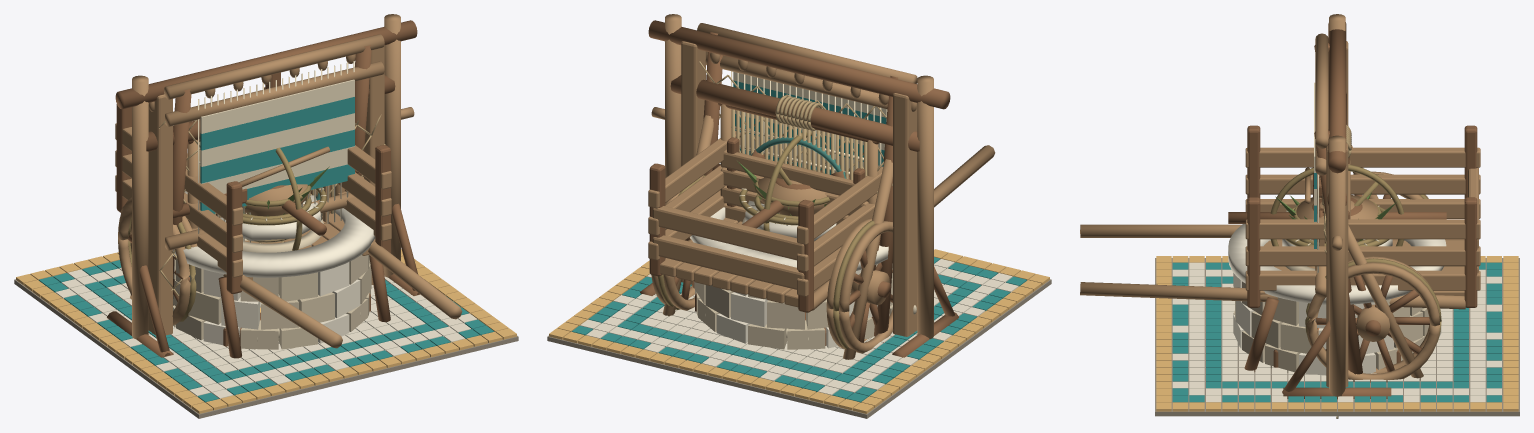
File: alexandria-details.glb
3 views of the same model, side by side, from view 1: azimuth 30°, elevation 25°; view 2: azimuth 150°, elevation 25°; view 3: azimuth 270°, elevation 25° (orthographic).
Visible parts, largest first — view 1: cargo-handcart__woodlight, mosaic-pavement__marble, mosaic-pavement__teal, mosaic-pavement__ochre, weighted-loom__linen, courtyard-well__marble, fishing-net-rack__woodlight, weighted-loom__woodlight, courtyard-well__limestone, courtyard-well__woodlight, weighted-loom__teal, cargo-handcart__wood (+13 smaller); view 2: cargo-handcart__woodlight, mosaic-pavement__marble, mosaic-pavement__teal, mosaic-pavement__ochre, courtyard-well__woodlight, fishing-net-rack__woodlight, fishing-net-rack__wood, weighted-loom__woodlight, courtyard-well__limestone, reed-screen__rope, courtyard-well__wood, craft-tool-rack__woodlight (+16 smaller); view 3: cargo-handcart__woodlight, mosaic-pavement__marble, mosaic-pavement__teal, mosaic-pavement__ochre, cargo-handcart__wood, mosaic-pavement__mortar, courtyard-well__marble, fishing-net-rack__woodlight, fishing-net-rack__wood, weighted-loom__woodlight, courtyard-well__limestone, courtyard-well__woodlight (+5 smaller).
Boxes of the visible parts, x1,y1,x2,y2 form: cargo-handcart__woodlight: (115, 87, 462, 348); mosaic-pavement__marble: (55, 267, 477, 399); mosaic-pavement__teal: (38, 260, 494, 402); mosaic-pavement__ochre: (16, 249, 516, 413); weighted-loom__linen: (198, 61, 354, 242); courtyard-well__marble: (173, 191, 375, 345); fishing-net-rack__woodlight: (132, 14, 400, 338); weighted-loom__woodlight: (130, 34, 384, 299); courtyard-well__limestone: (173, 254, 371, 349); courtyard-well__woodlight: (148, 45, 414, 335); weighted-loom__teal: (200, 97, 354, 213); cargo-handcart__wood: (116, 72, 390, 358); cargo-handcart__woodlight: (648, 131, 995, 353); mosaic-pavement__marble: (580, 259, 1018, 395); mosaic-pavement__teal: (571, 257, 1026, 402); mosaic-pavement__ochre: (549, 249, 1049, 413); courtyard-well__woodlight: (651, 41, 917, 336); fishing-net-rack__woodlight: (665, 14, 933, 338); fishing-net-rack__wood: (640, 20, 958, 357); weighted-loom__woodlight: (663, 23, 917, 359); courtyard-well__limestone: (694, 263, 892, 349); reed-screen__rope: (731, 109, 867, 180); courtyard-well__wood: (670, 75, 919, 151); craft-tool-rack__woodlight: (720, 149, 869, 224); cargo-handcart__woodlight: (1080, 147, 1480, 382); mosaic-pavement__marble: (1172, 262, 1501, 402); mosaic-pavement__teal: (1172, 262, 1501, 402); mosaic-pavement__ochre: (1156, 256, 1518, 411); cargo-handcart__wood: (1244, 125, 1477, 372); mosaic-pavement__mortar: (1155, 258, 1519, 416); courtyard-well__marble: (1228, 224, 1446, 377); fishing-net-rack__woodlight: (1329, 14, 1345, 399); fishing-net-rack__wood: (1282, 22, 1391, 398); weighted-loom__woodlight: (1305, 33, 1423, 380); courtyard-well__limestone: (1233, 281, 1441, 372); courtyard-well__woodlight: (1326, 41, 1348, 386).
Bounding box in the file's own units: 2.84 × 2.98 × 3.42.
